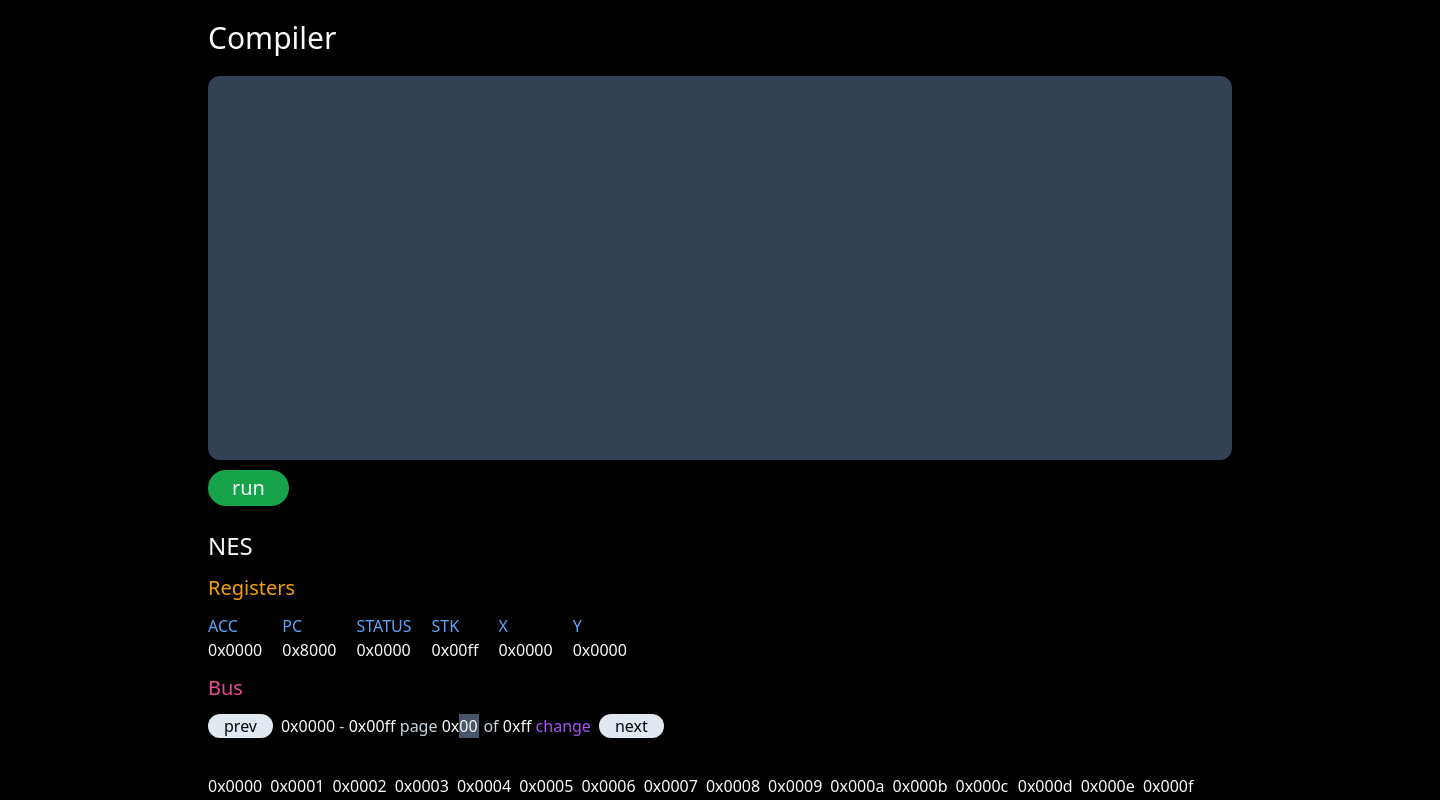
Test: <Compiler/> › can not compile this
Click the text box with test id "text-area-compiler": point(720, 268) [208,76,1232,460]
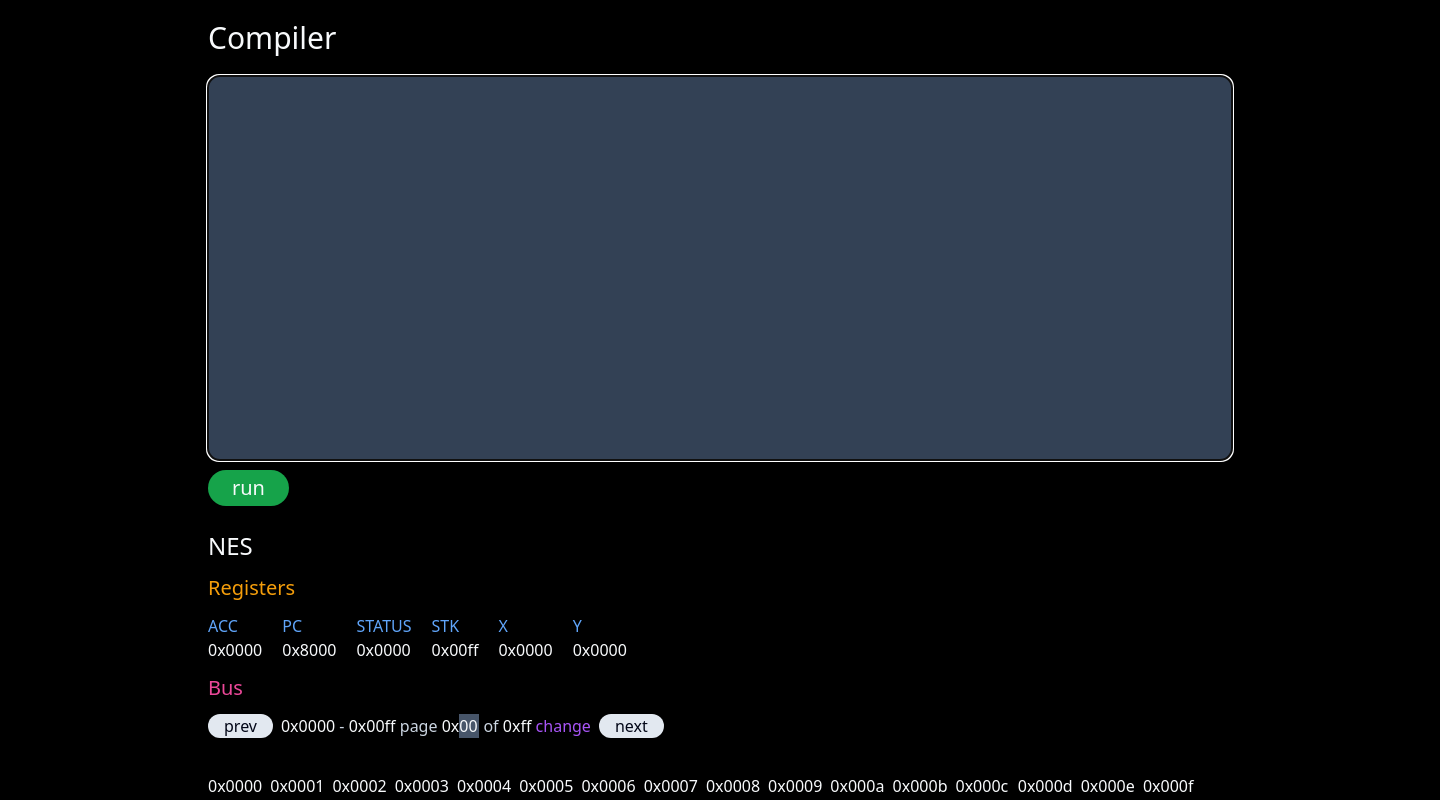
Type keys "no way no"
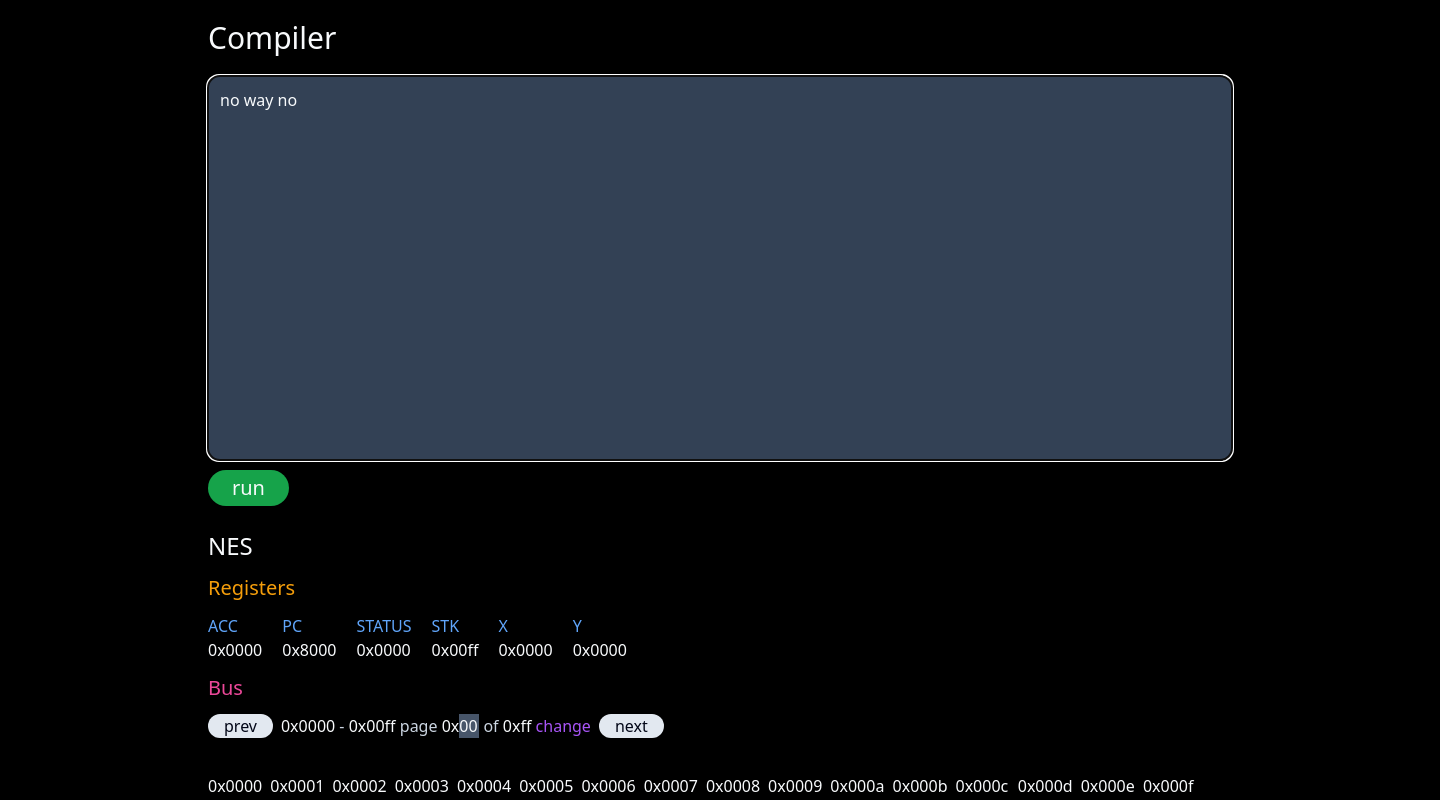
Click the button with test id "button-compiler": point(248, 488) [208,470,289,506]
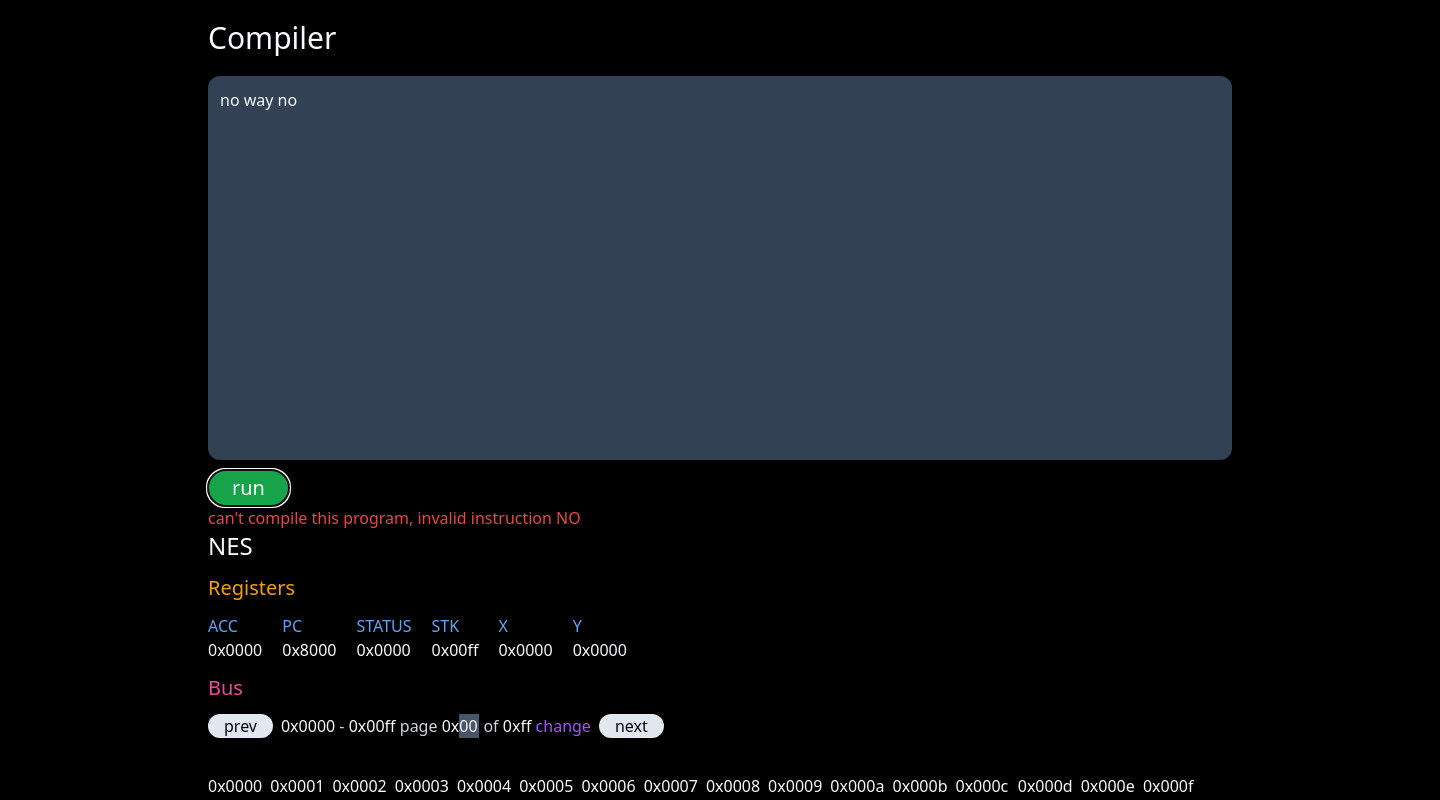
Expected: the text with test id "compile-info" reads "can't compile this program, invalid instruction NO", [208,507,581,529]
